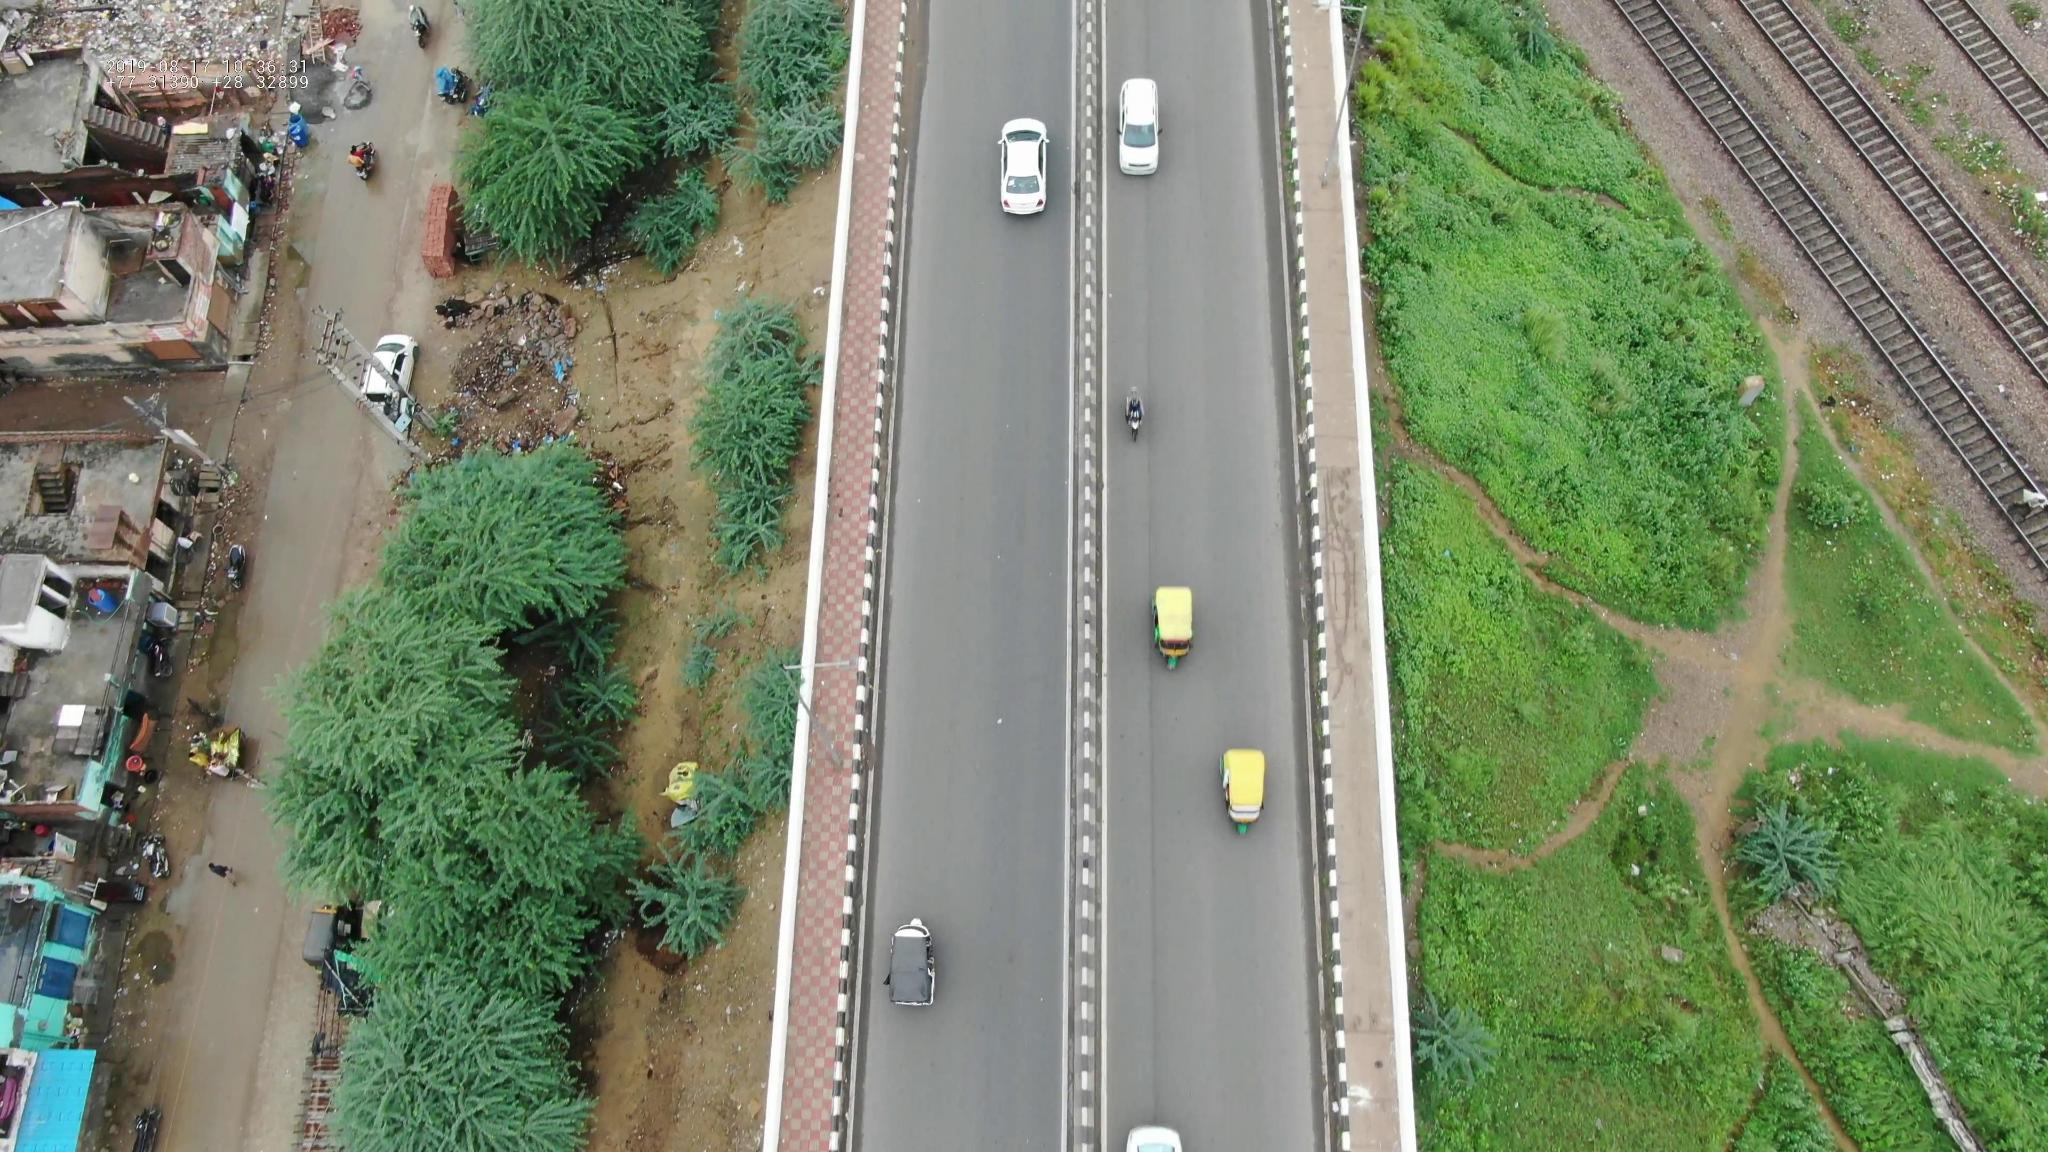Road_side_garbage: (442, 279, 588, 430)
